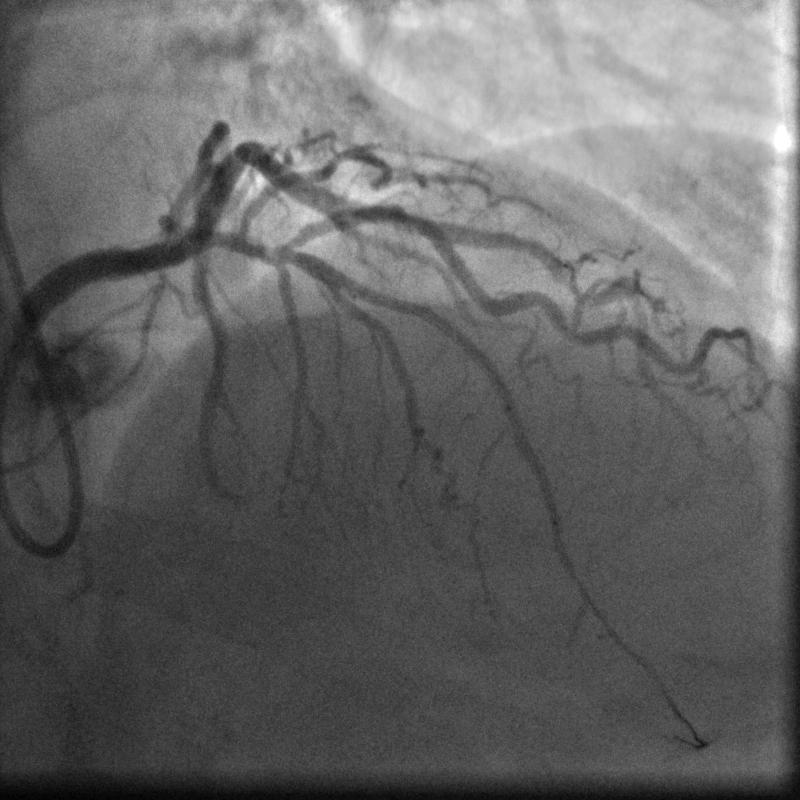Stenosis: (385, 200, 432, 238)
